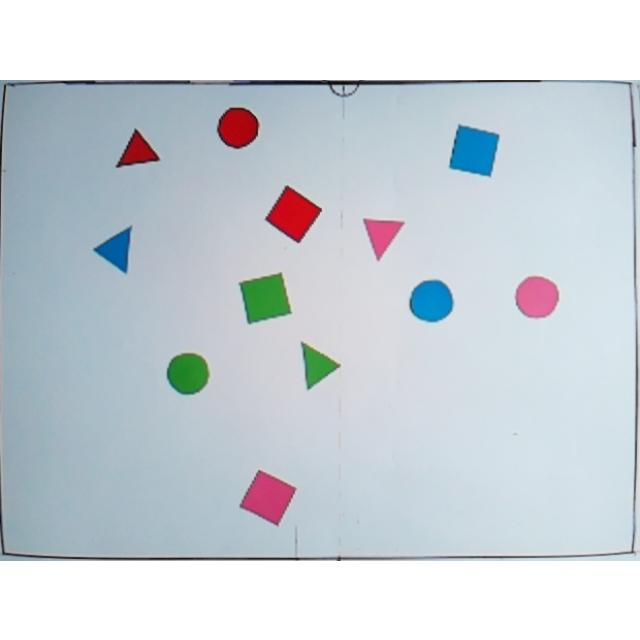blueCircle: (408, 277, 456, 323)
blueSquare: (446, 121, 502, 177)
blueTriangle: (92, 222, 136, 274)
greenCircle: (166, 350, 210, 396)
greenSquare: (238, 270, 292, 322)
greenTriangle: (299, 339, 343, 391)
pinkCircle: (514, 274, 560, 318)
pinkSquare: (238, 467, 298, 527)
pinkTriangle: (361, 214, 405, 262)
redCircle: (216, 104, 262, 150)
redSquare: (264, 183, 324, 243)
redTriangle: (114, 126, 162, 170)
